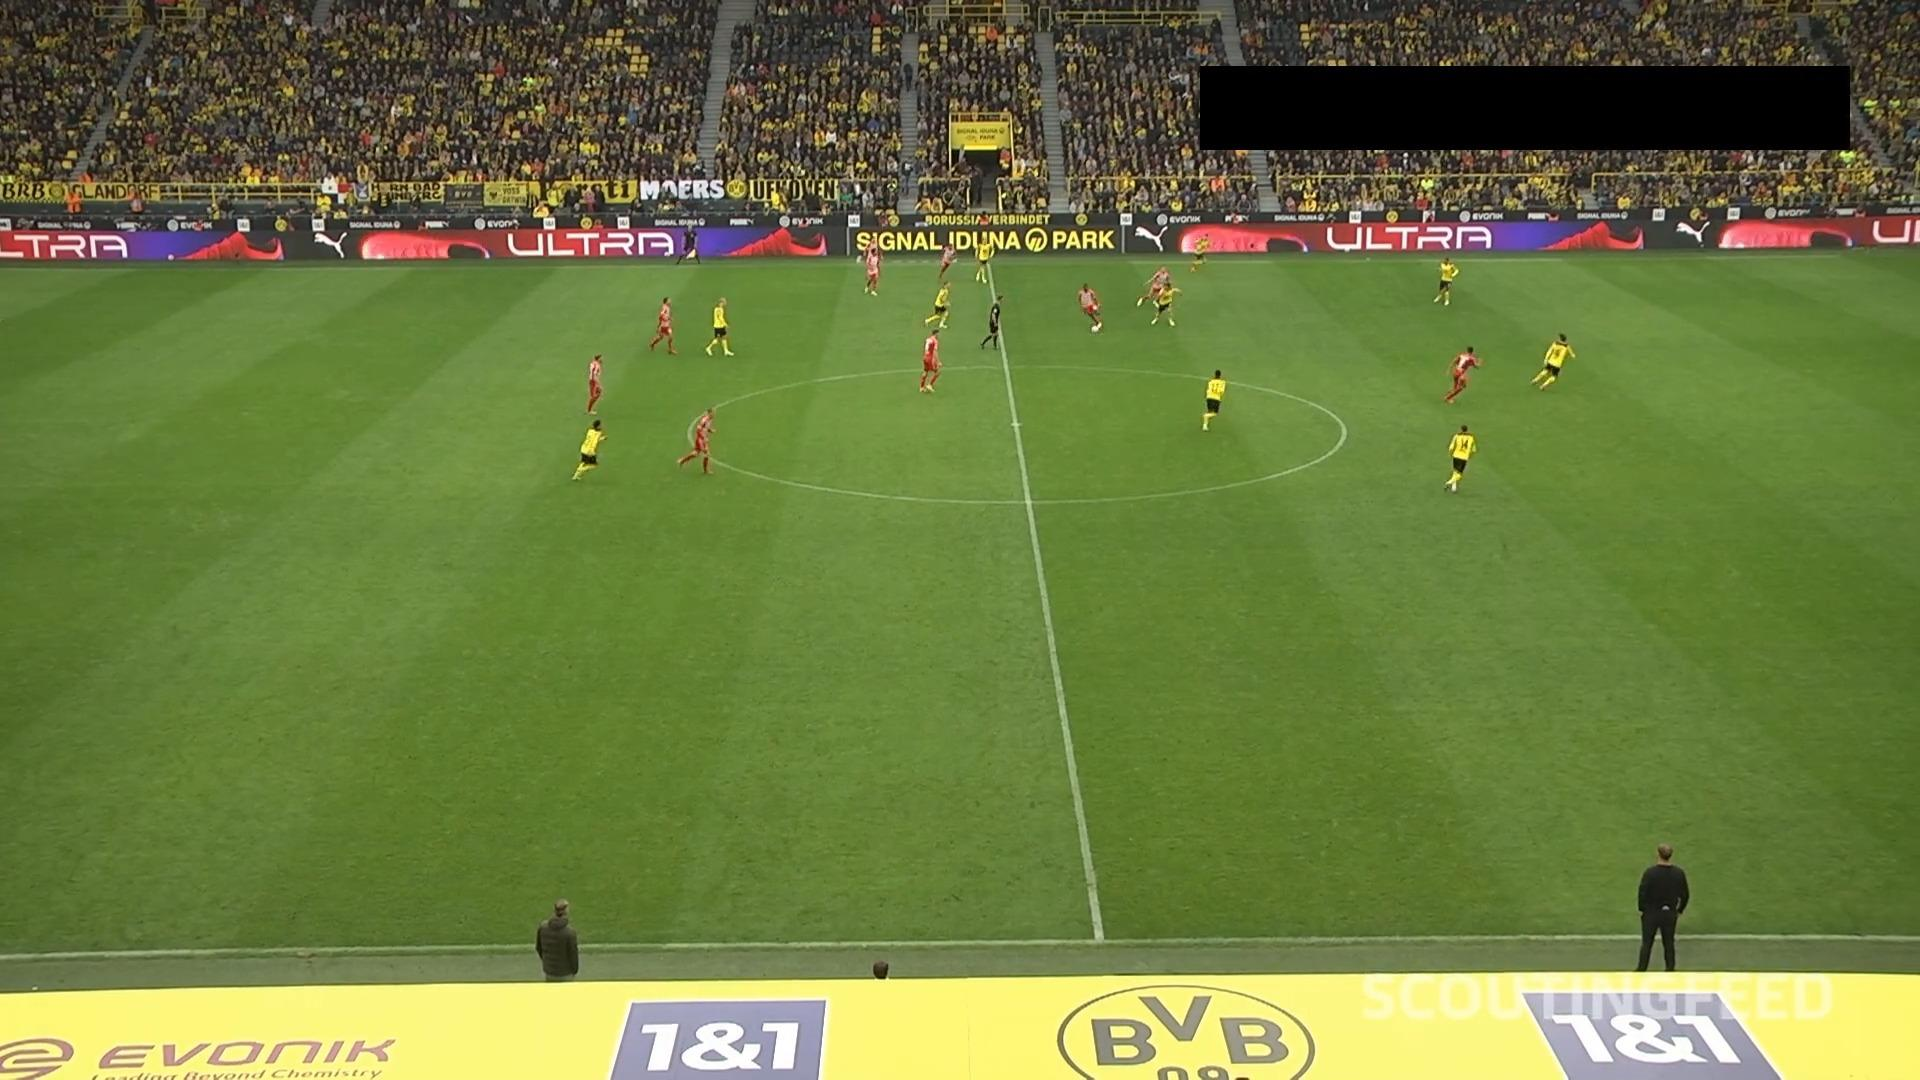ball: (1088, 323, 1100, 335)
